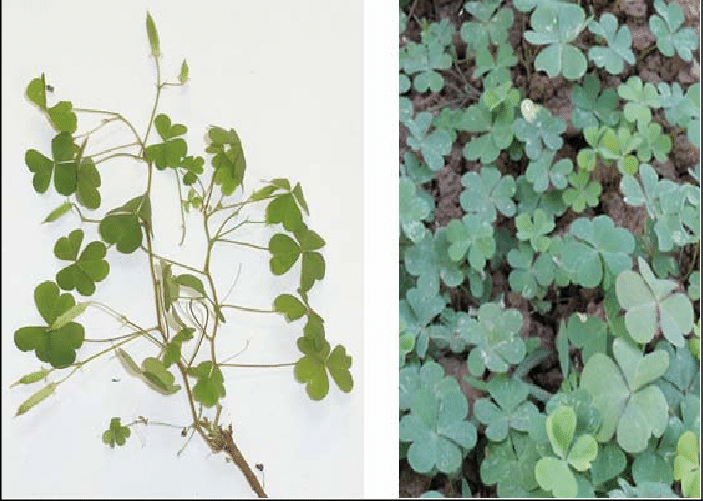oxalis: (409, 21, 696, 500), (11, 80, 334, 470)
